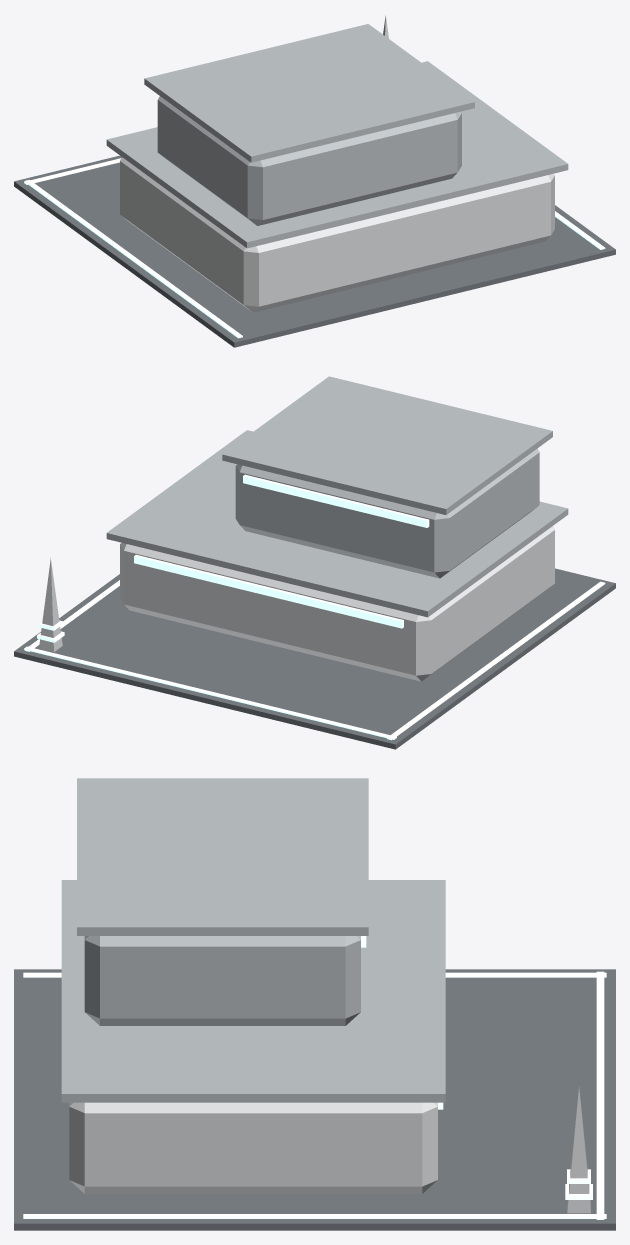
Rendered from zone_low_6_t2.glb.
3 views of the same model, one above another, from view 1: azimuth 30°, elevation 25°; view 2: azimuth 150°, elevation 25°; view 3: azimuth 270°, elevation 25° (orthographic). The views are drawn at different scales.
Visible parts, largest first — view 1: zone_low_6_t2, detail; view 2: zone_low_6_t2, detail; view 3: zone_low_6_t2, detail.
Boxes of the visible parts, box(x1,y1,x2,y2) form: zone_low_6_t2: box(14, 24, 615, 347); detail: box(24, 15, 605, 338); zone_low_6_t2: box(14, 376, 615, 749); detail: box(24, 558, 605, 740); zone_low_6_t2: box(14, 778, 615, 1230); detail: box(23, 971, 606, 1219).
Size of the model in its own units: 19.6 by 8.07 by 19.6.
